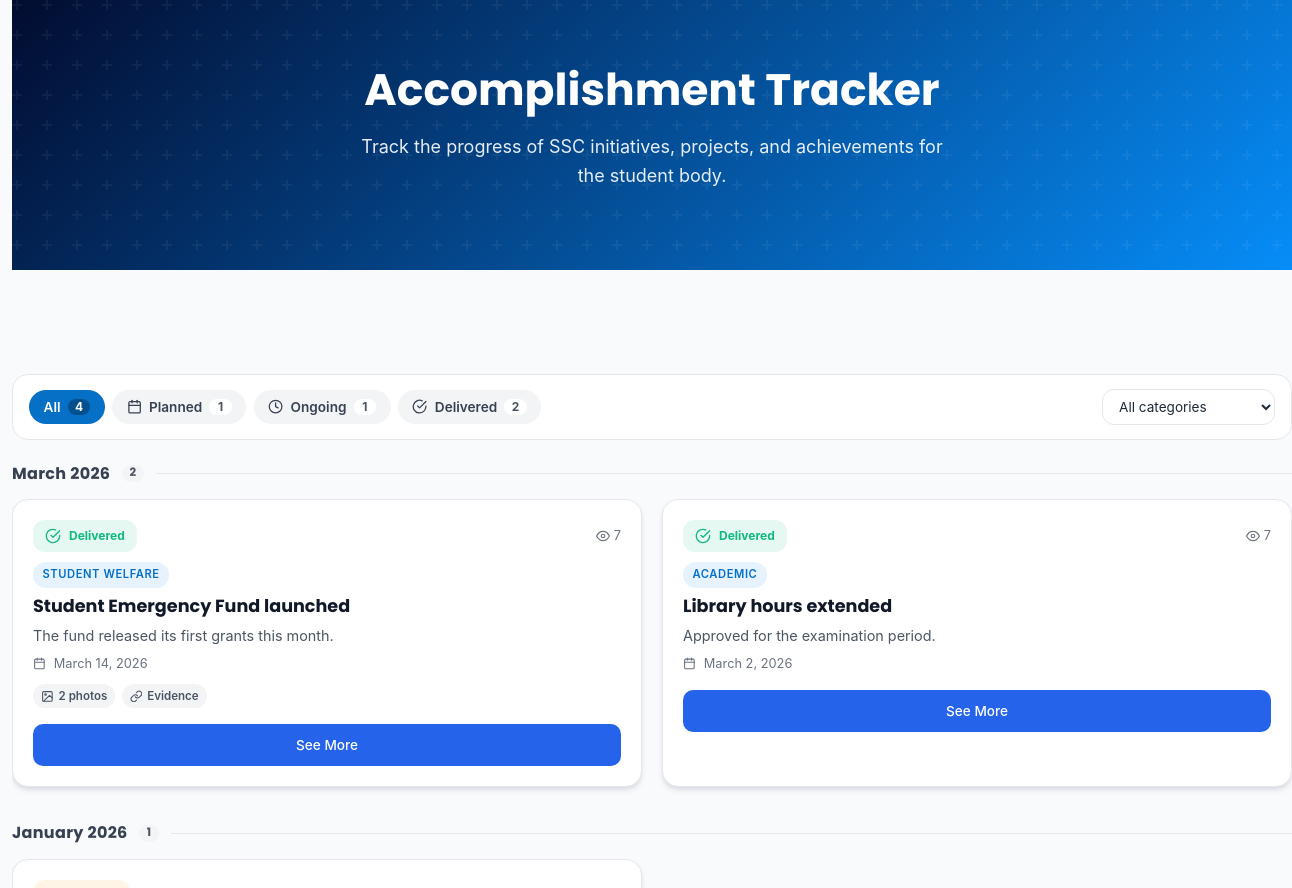
Test: filtering › narrows to one state and re-groups what is left
This screenshot has width=1292, height=888.
Click the button with class "acc-chip" showing "Ongoing 1".
click(322, 407)  # box [254,390,391,424]
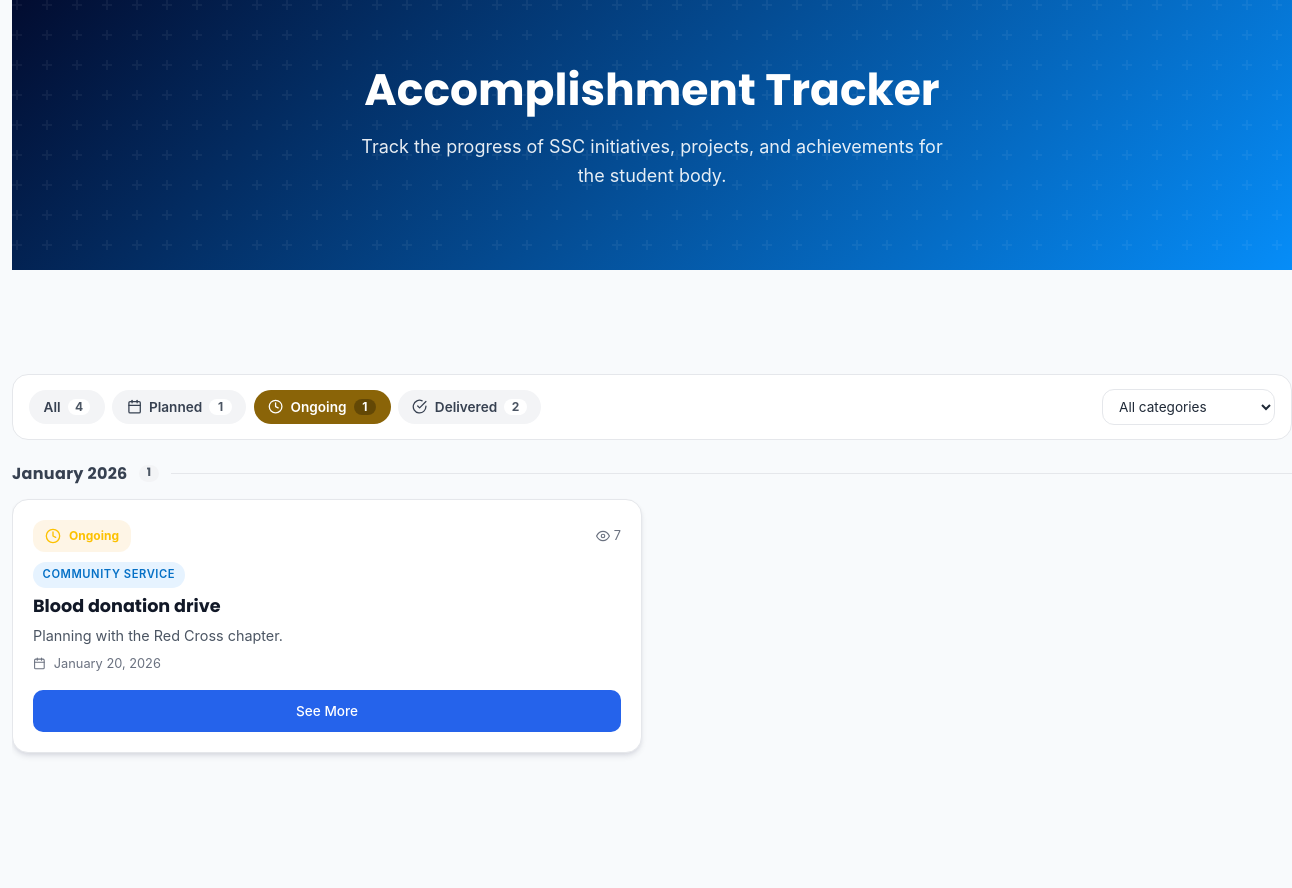
Now the number of elements with class "accomplishment-card" is 1, box [12,499,642,753]
